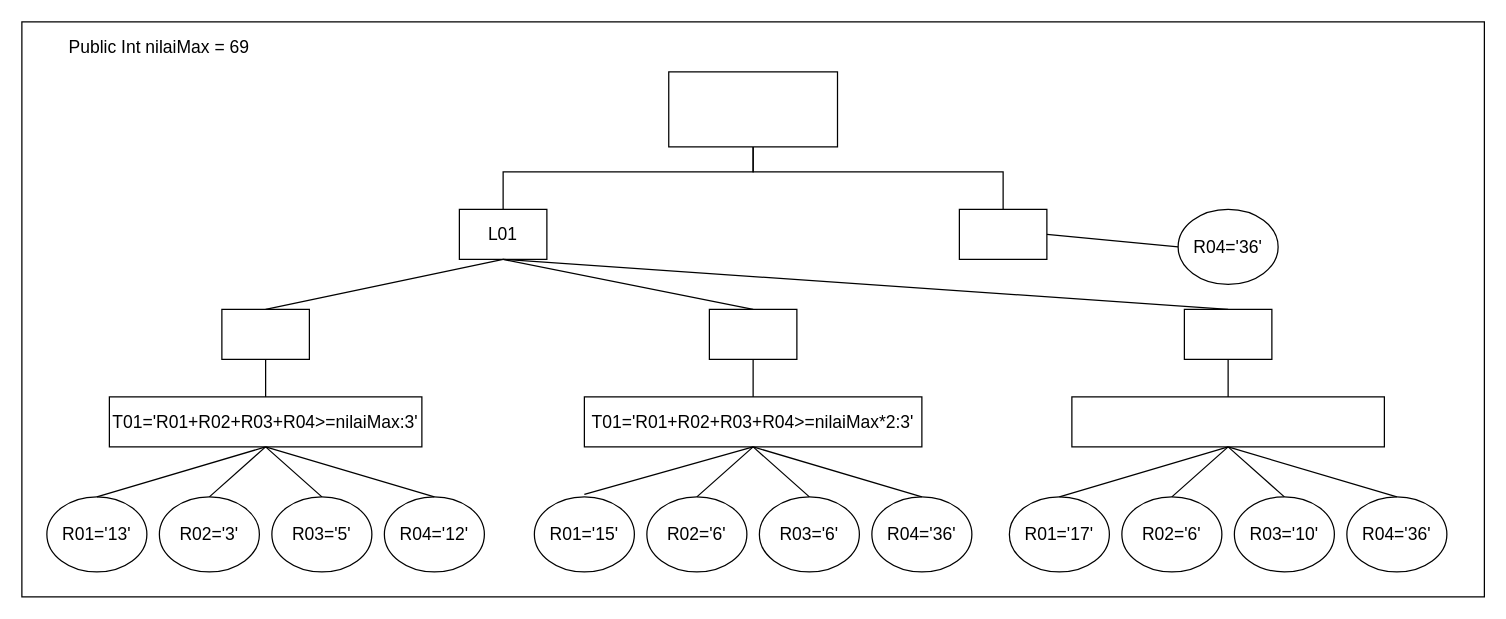
Some shapes in this 1506 by 619 pixel diagram are drawn without their labels. Each missing label, with the centre of its shape:
Game Raden Arya Wiralodra : Babad Alas Dermayu: (753,109)
H01: (265,333)
H02: (752,333)
H03: (1227,333)
L02: (1002,233)
T01='R01+R02+R03+R04>=nilaiMax': (1227,421)
